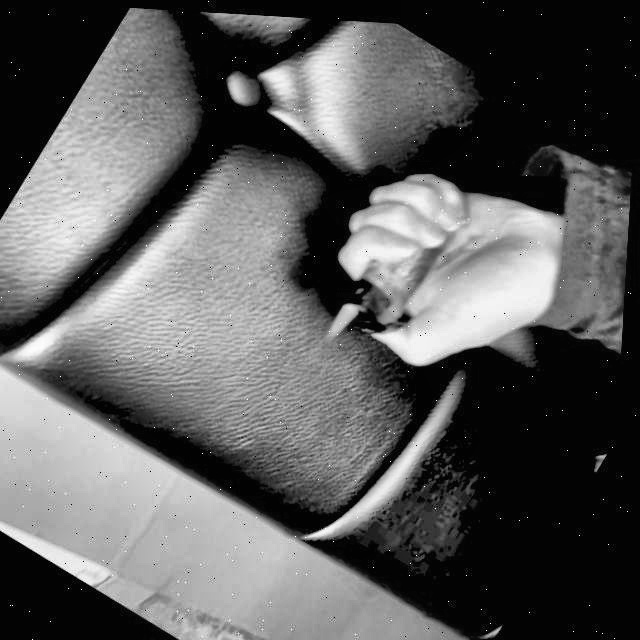Fire: (326, 293, 366, 343)
